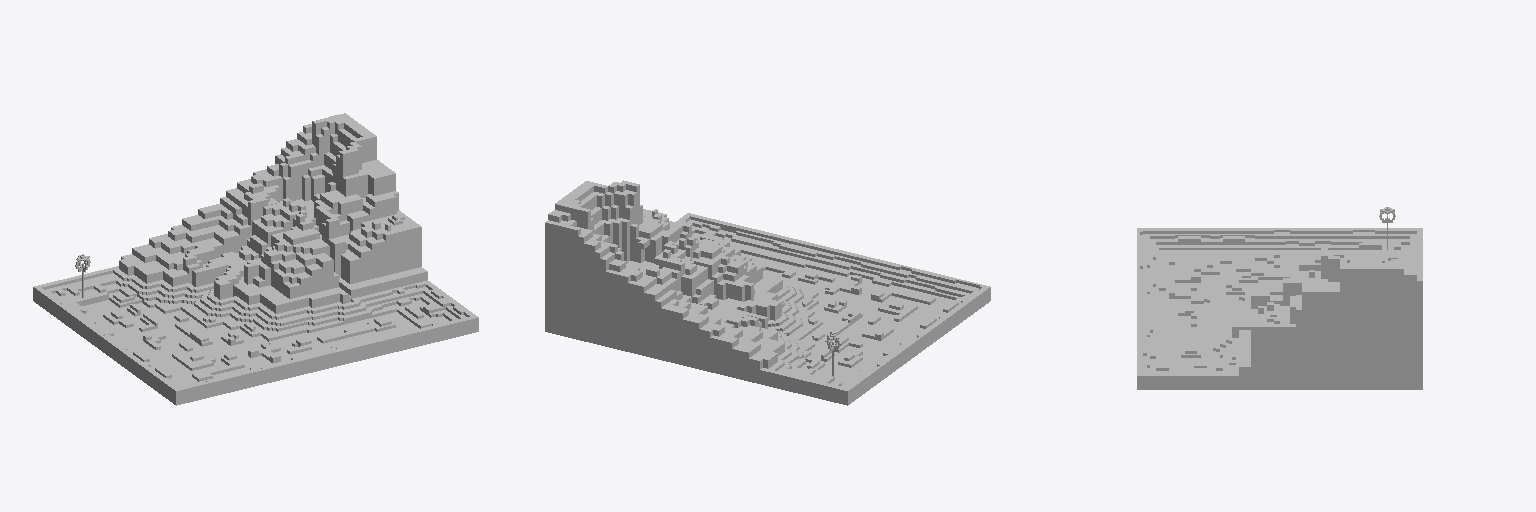
The model's file is light.obj.
3 views of the same model, side by side, from view 1: azimuth 30°, elevation 25°; view 2: azimuth 150°, elevation 25°; view 3: azimuth 270°, elevation 25° (orthographic).
Parts seen in each view (by area): view 1: FinalVolcan_2; view 2: FinalVolcan_2; view 3: FinalVolcan_2.
Boxes of the visible parts, <box> form: FinalVolcan_2: <box>33,113,478,405</box>; FinalVolcan_2: <box>545,180,990,405</box>; FinalVolcan_2: <box>1137,228,1422,389</box>.
Size of the model in its own units: 110 by 42 by 90.